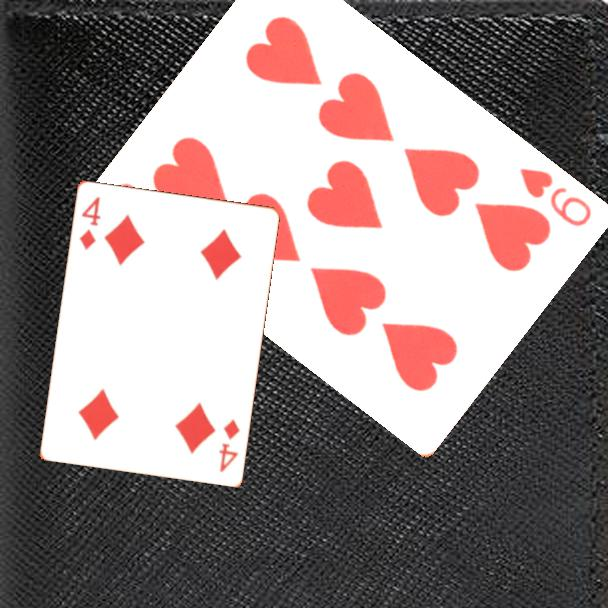d04: (215, 415, 243, 474), (76, 193, 103, 252)
h09: (515, 164, 594, 230)
